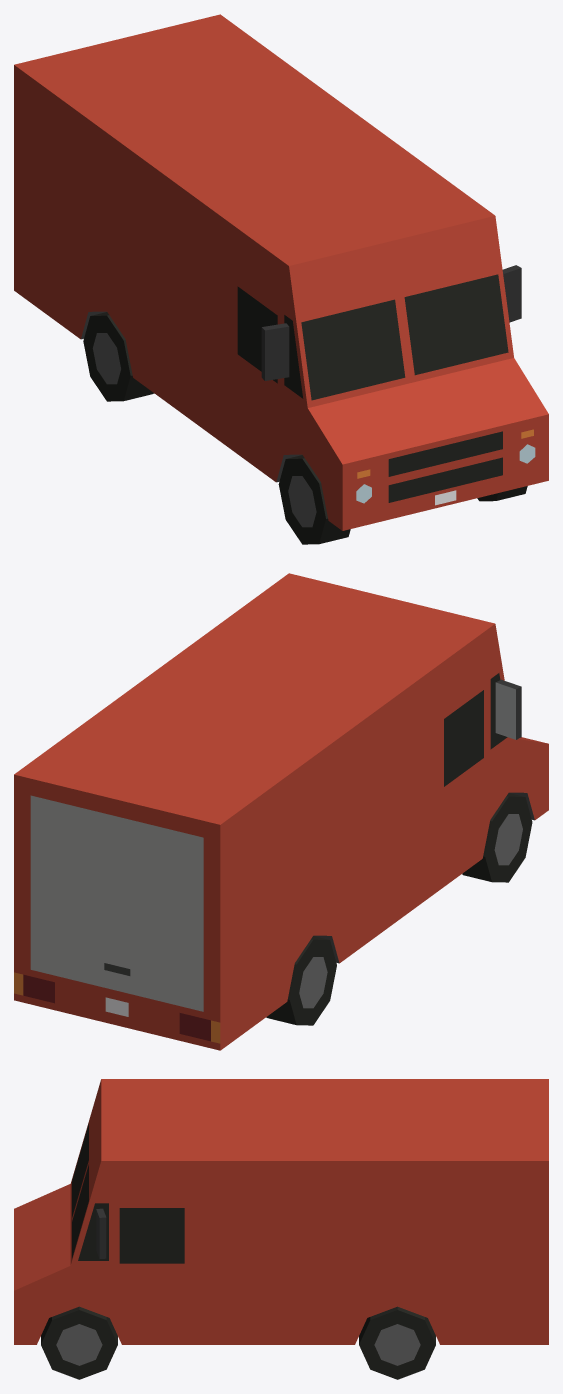
Rendered from Veh_StepVan_01_Red.glb.
3 views of the same model, one above another, from view 1: azimuth 30°, elevation 25°; view 2: azimuth 150°, elevation 25°; view 3: azimuth 270°, elevation 25° (orthographic). The views are drawn at different scales.
Visible parts, largest first — view 1: StepVan_Red, Wheel_FR, Wheel_RR; view 2: StepVan_Red, Wheel_FR, Wheel_RR; view 3: StepVan_Red, Wheel_FL, Wheel_RL.
Part boxes in pixels (left/top/right/bottom): StepVan_Red: left=14, top=14, right=548, bottom=530; Wheel_FR: left=278, top=455, right=350, bottom=544; Wheel_RR: left=83, top=312, right=154, bottom=401; StepVan_Red: left=14, top=573, right=548, bottom=1050; Wheel_FR: left=462, top=793, right=532, bottom=882; Wheel_RR: left=266, top=936, right=336, bottom=1025; StepVan_Red: left=14, top=1079, right=548, bottom=1344; Wheel_FL: left=41, top=1306, right=117, bottom=1379; Wheel_RL: left=359, top=1306, right=435, bottom=1379.
Size of the model in its own units: 1.57 by 1.57 by 3.48.
1 material, 1 textured.
